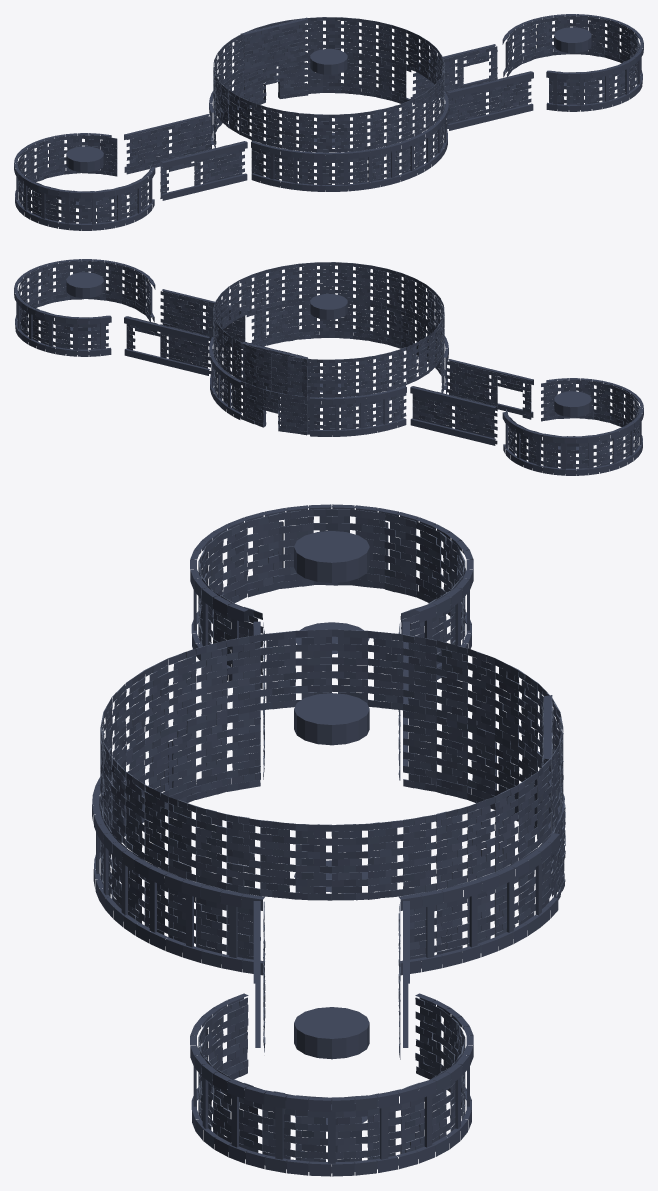
File: Broto_recercado.gltf
The picture shows the model from 3 angles, top to bottom: view 1: azimuth 30°, elevation 25°; view 2: azimuth 150°, elevation 25°; view 3: azimuth 270°, elevation 25°; orthographic projection. The views are drawn at different scales.
Parts seen in each view (by area): view 1: Broto_recercado-col; view 2: Broto_recercado-col; view 3: Broto_recercado-col.
Boxes of the visible parts, <box> form: Broto_recercado-col: <box>14,14,643,230</box>; Broto_recercado-col: <box>14,259,643,475</box>; Broto_recercado-col: <box>92,504,565,1176</box>.
Size of the model in its own units: 101 by 13.45 by 33.97.
Materials: 1 (1 with a texture image).
